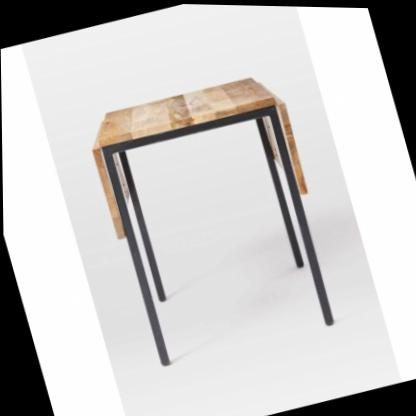Table: (64, 50, 362, 393)
